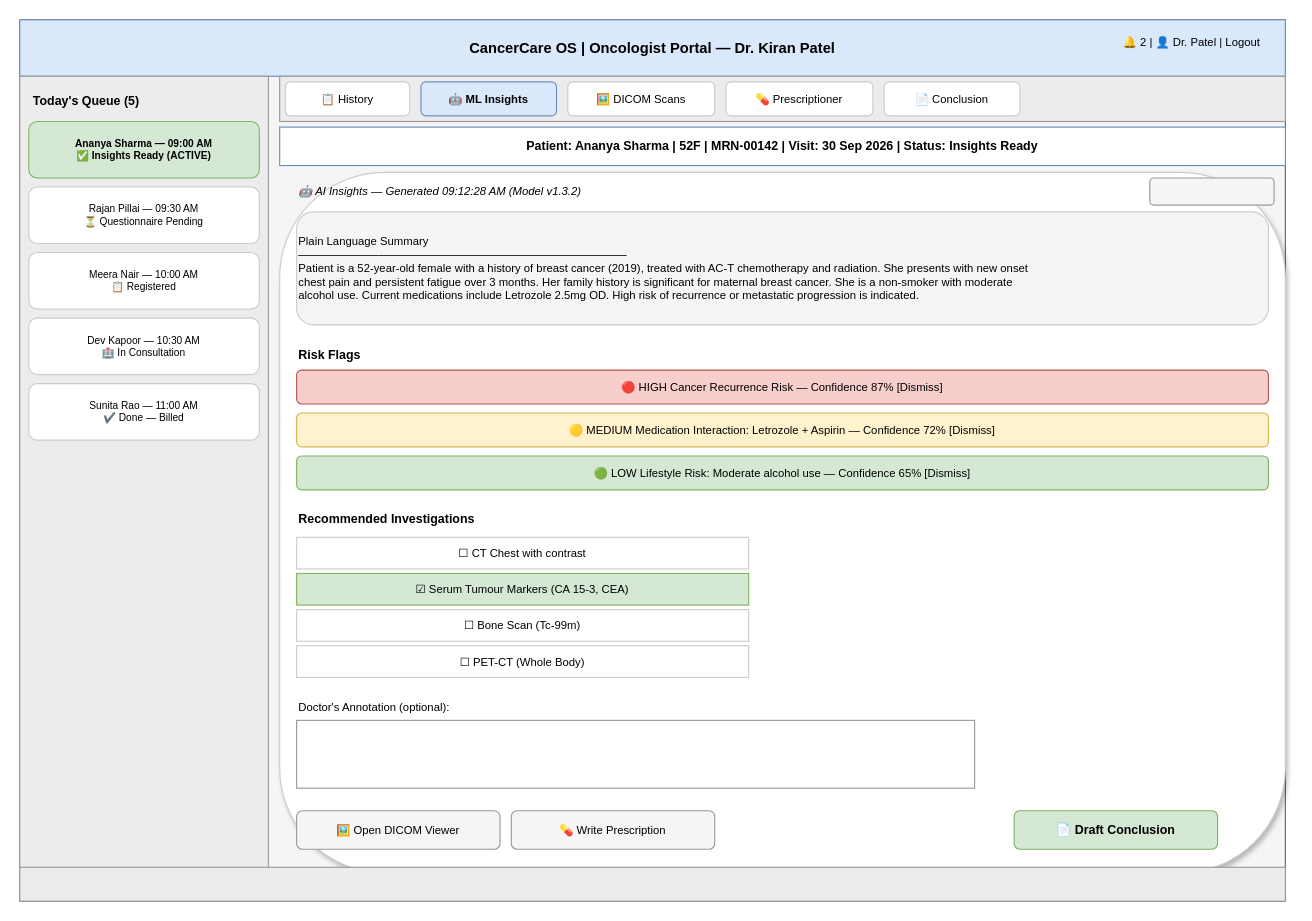
Some shapes in this 1312 by 921 pixel diagram are drawn without their labels. Here are the shapes that lost their labels. From the top down, the centre of each, then its label:
the point at 1211,191: 🔄 Regenerate Insights
the point at 635,753: Type annotation here...
the point at 652,883: CancerCare OS v1.0 | Connected ● Live | Tue 30 Sep 2026 09:50 AM
